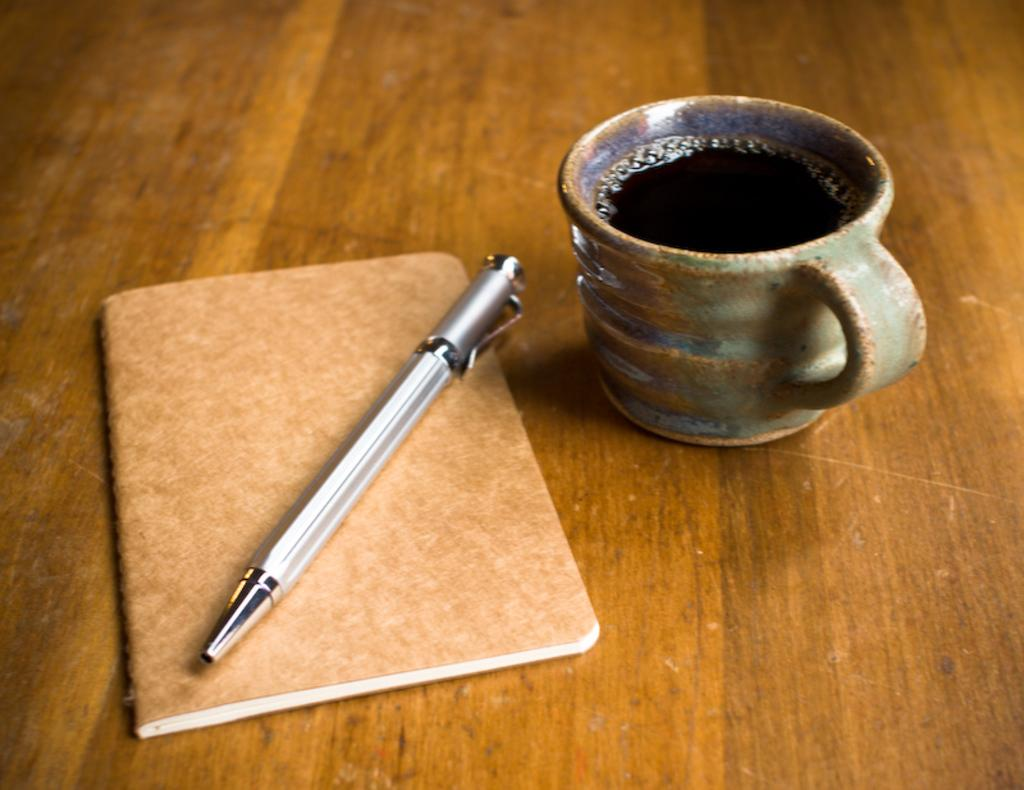pen: (197, 250, 524, 663)
